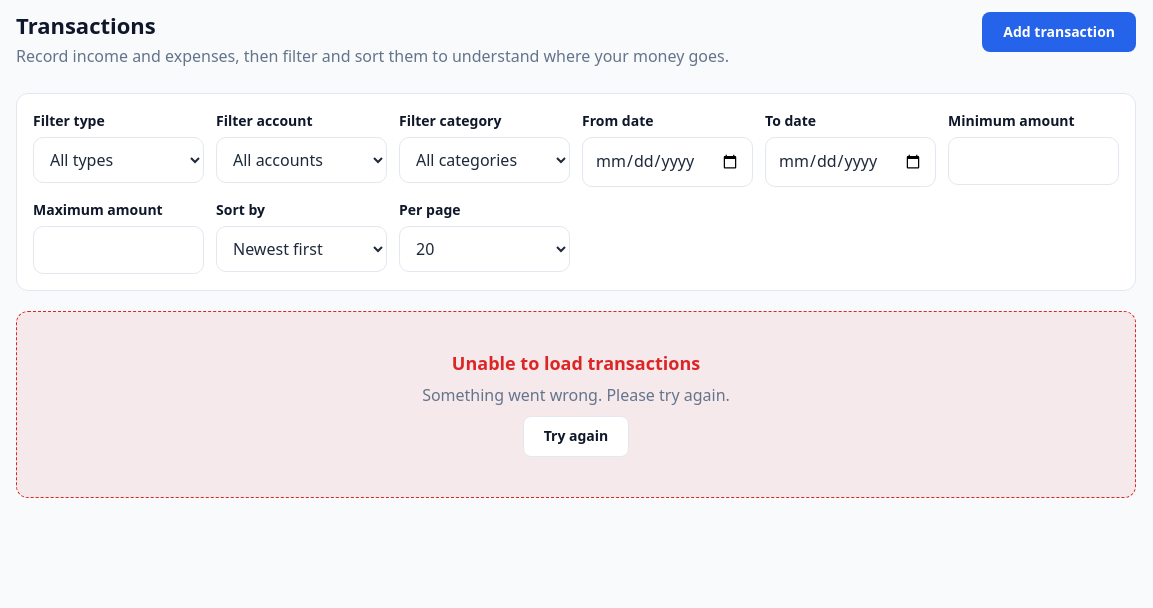
Test: TransactionsPage list › shows an API error state and retries
The width and height of the screenshot is (1153, 608).
Expected: the heading "Unable to load transactions" is shown, [452,352,700,375]
Expected: the text "Something went wrong. Please try again." is shown, [422,383,730,408]
Click the button "Try again" at point(576, 436), box [523,416,629,457]
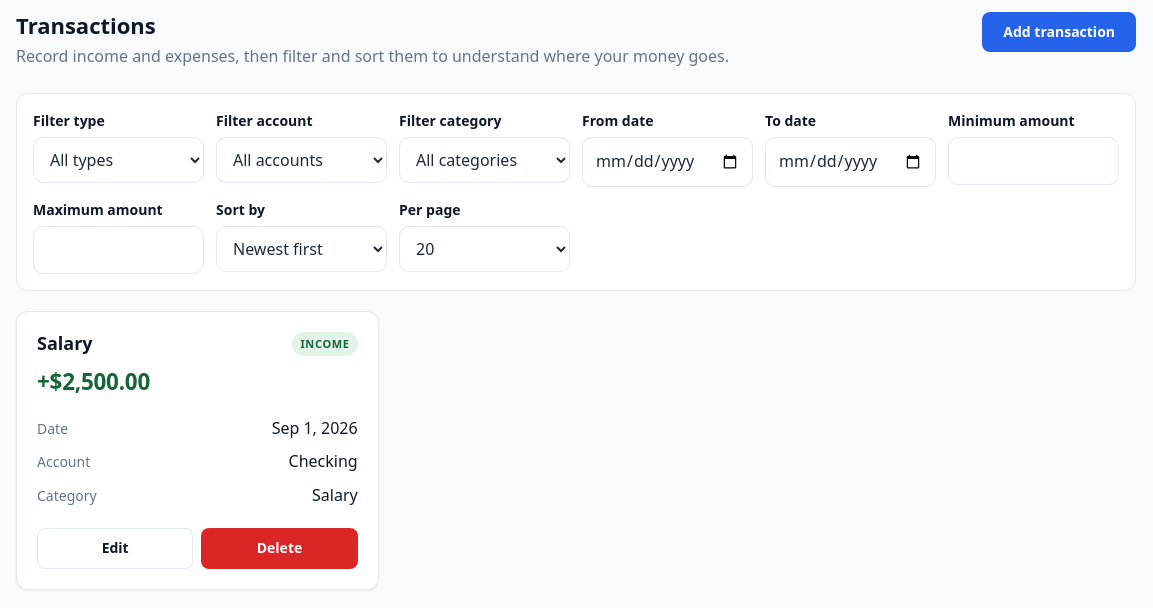
Now the element "Salary" is shown, box [16,311,379,590]
